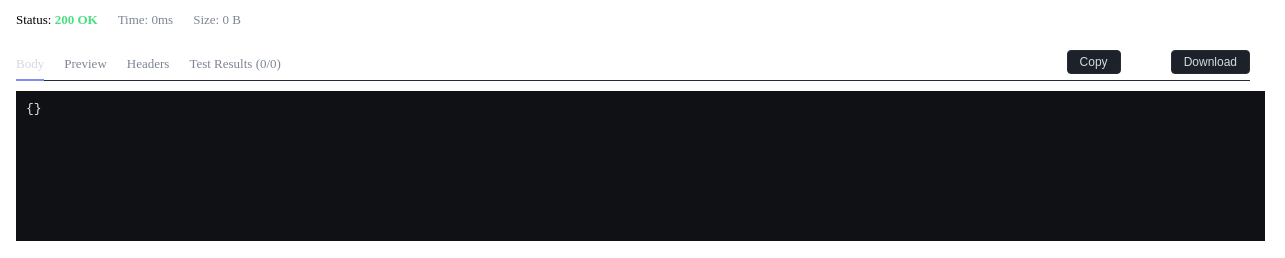
Test case: ResponseViewer › should render empty tests message when no tests executed
Step 1. Click the text "Test Results (0/0)" → coordinates (235, 64), box [189, 56, 281, 71]
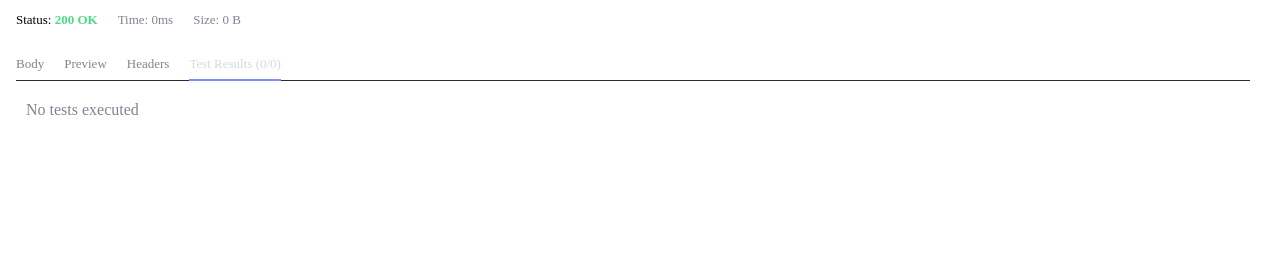
Expected: the text "No tests executed" is shown, [26, 101, 139, 118]
